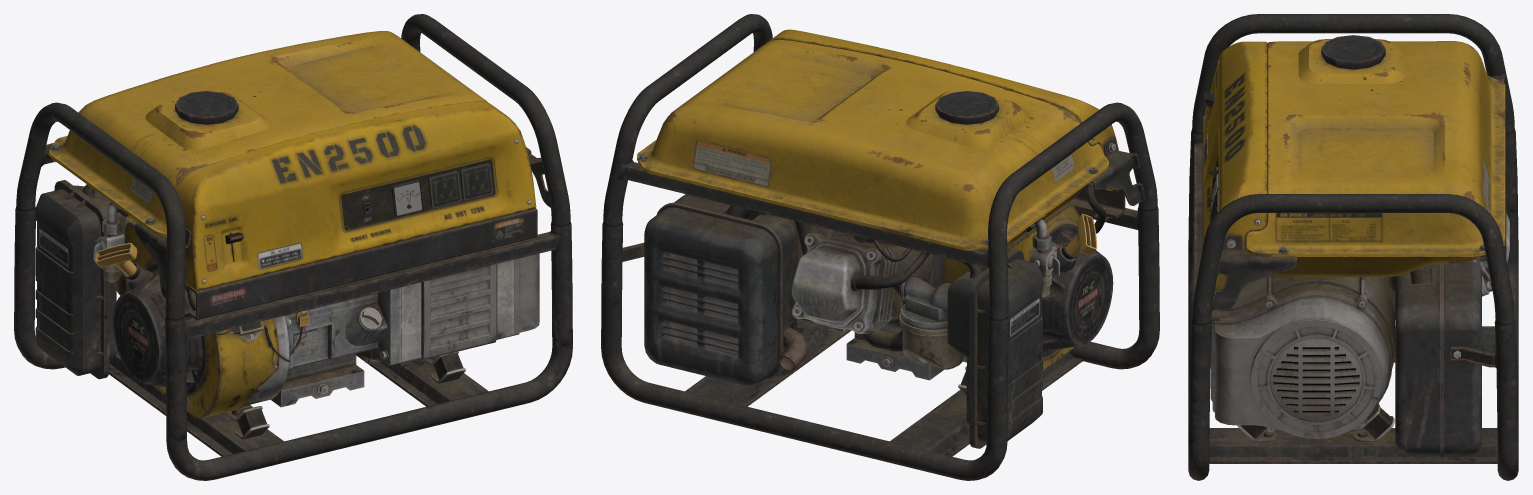
Rendered from lf-generator.glb.
3 views of the same model, side by side, from view 1: azimuth 30°, elevation 25°; view 2: azimuth 150°, elevation 25°; view 3: azimuth 270°, elevation 25° (orthographic).
Parts seen in each view (by area): view 1: portable_generator; view 2: portable_generator; view 3: portable_generator.
Part boxes in pixels (x1,y1,x2,y2): portable_generator: [14, 14, 572, 480]; portable_generator: [601, 14, 1159, 480]; portable_generator: [1188, 14, 1518, 480].
Bounding box in the file's own units: 0.8183 × 0.577 × 0.564.
Materials: 2 (2 with a texture image).
